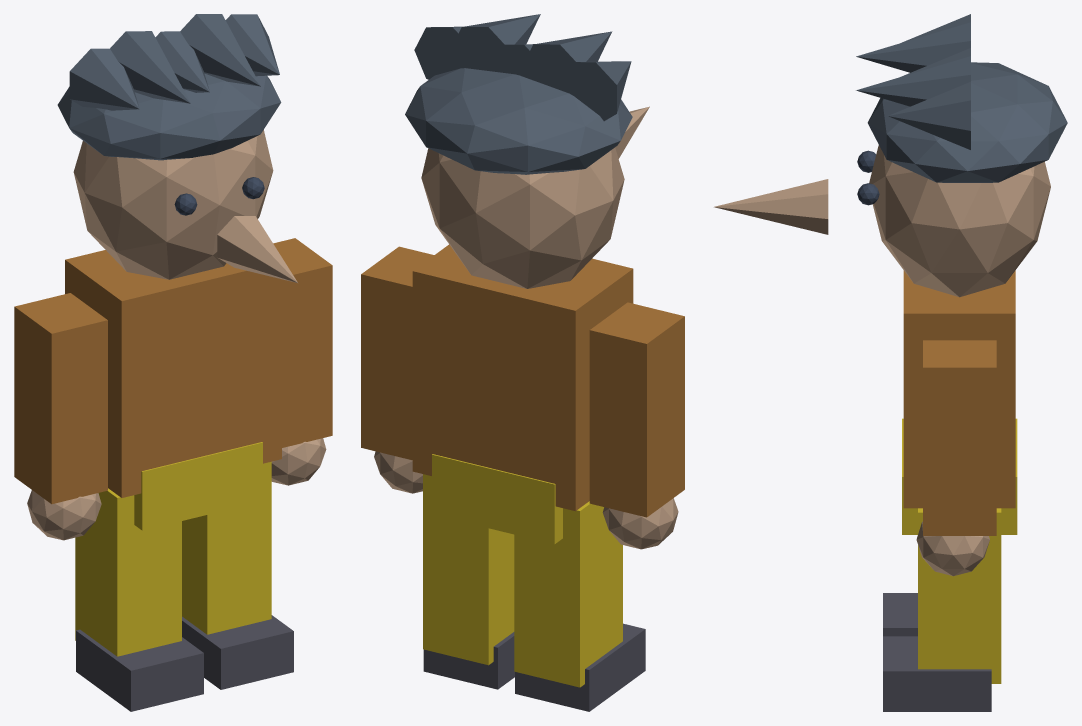
File: usopp.glb
3 renders of one model, left to right at view 1: azimuth 30°, elevation 25°; view 2: azimuth 150°, elevation 25°; view 3: azimuth 270°, elevation 25°, orthographic. The views are drawn at different scales.
Parts seen in each view (by area): view 1: part_000, part_010, part_002, part_004, part_013, part_008, part_006, part_001, part_005, part_009, part_014, part_015 (+6 smaller); view 2: part_000, part_010, part_002, part_013, part_004, part_008, part_006, part_001, part_005, part_015, part_017, part_014 (+6 smaller); view 3: part_010, part_006, part_013, part_000, part_008, part_009, part_019, part_018, part_017, part_015, part_007, part_005 (+1 smaller).
Part boxes in pixels (<box>): part_000: <box>65,250,281,497</box>; part_010: <box>73,130,273,279</box>; part_002: <box>14,293,107,504</box>; part_004: <box>75,488,181,656</box>; part_013: <box>57,74,281,160</box>; part_008: <box>182,461,271,634</box>; part_006: <box>273,238,332,447</box>; part_001: <box>134,442,262,530</box>; part_005: <box>76,629,203,711</box>; part_009: <box>182,615,293,689</box>; part_014: <box>69,48,139,110</box>; part_015: <box>110,31,190,103</box>; part_000: <box>412,244,633,511</box>; part_010: <box>421,147,624,288</box>; part_002: <box>589,302,684,517</box>; part_013: <box>405,68,632,174</box>; part_004: <box>514,501,622,687</box>; part_008: <box>423,474,514,665</box>; part_006: <box>361,246,433,460</box>; part_001: <box>432,454,562,544</box>; part_005: <box>515,623,645,711</box>; part_015: <box>521,31,612,98</box>; part_017: <box>450,14,540,73</box>; part_014: <box>557,61,631,121</box>; part_010: <box>869,145,1050,297</box>; part_006: <box>923,340,996,535</box>; part_013: <box>867,62,1067,182</box>; part_000: <box>903,270,1015,508</box>; part_008: <box>918,508,1001,683</box>; part_009: <box>883,636,991,711</box>; part_019: <box>714,179,828,234</box>; part_018: <box>888,81,970,149</box>; part_017: <box>856,56,970,106</box>; part_015: <box>856,22,970,72</box>; part_007: <box>916,521,989,576</box>; part_005: <box>883,593,917,636</box>.
Bounding box in the file's own units: 1.03 × 2.17 × 1.11.
